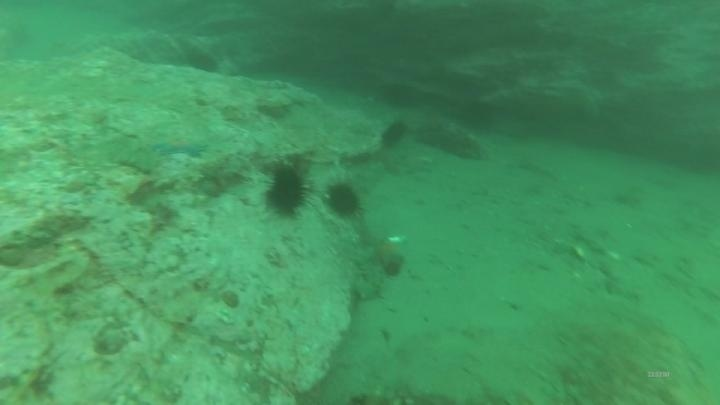echinus: (262, 162, 312, 220), (323, 179, 364, 220), (184, 44, 221, 74), (381, 119, 411, 152)
holothurian: (415, 115, 488, 161), (349, 250, 388, 304)
starfish: (151, 133, 208, 160), (367, 236, 407, 269)
